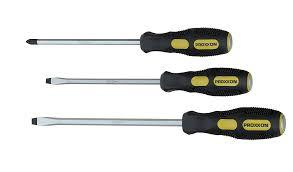screwdriver: (30, 106, 285, 139), (44, 66, 252, 95), (25, 26, 231, 55)
